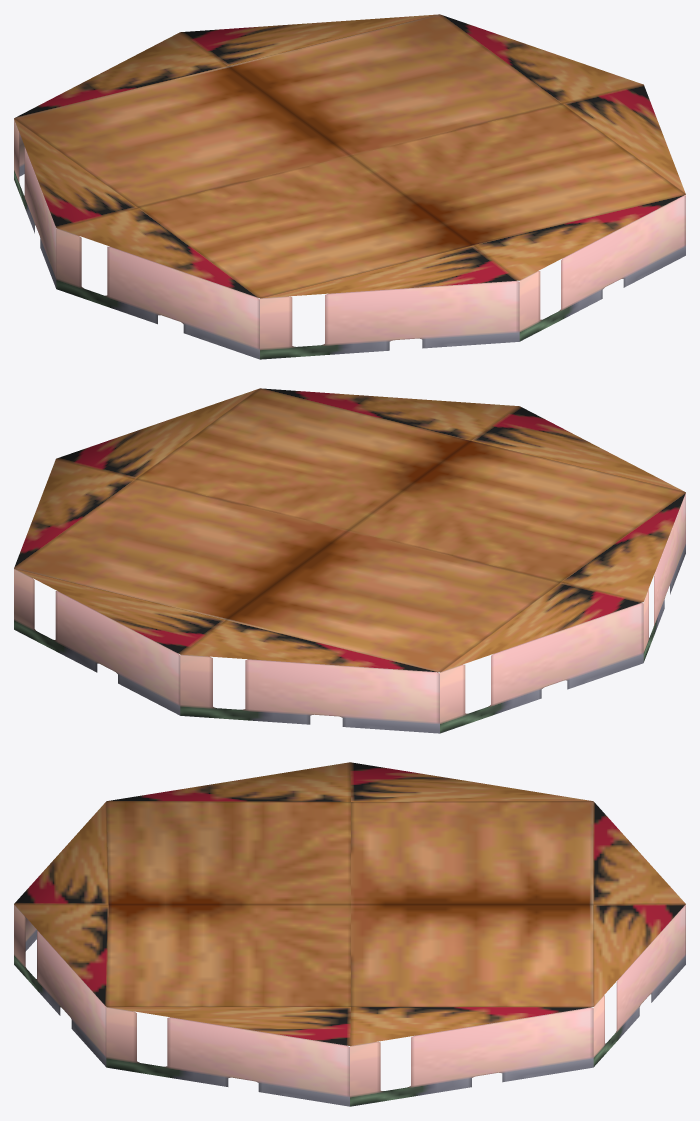
3 views of the same model, one above another, from view 1: azimuth 30°, elevation 25°; view 2: azimuth 150°, elevation 25°; view 3: azimuth 270°, elevation 25° (orthographic).
Parts seen in each view (by area): view 1: T1L1M001_19; view 2: T1L1M001_19; view 3: T1L1M001_19.
Boxes of the visible parts, <box> form: T1L1M001_19: <box>14,14,685,359</box>; T1L1M001_19: <box>14,388,685,733</box>; T1L1M001_19: <box>14,762,685,1106</box>.
Size of the model in its own units: 2 by 0.1992 by 2.
